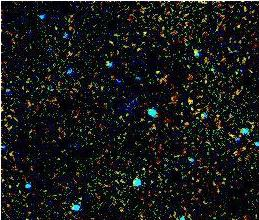star: (175, 88, 205, 118)
